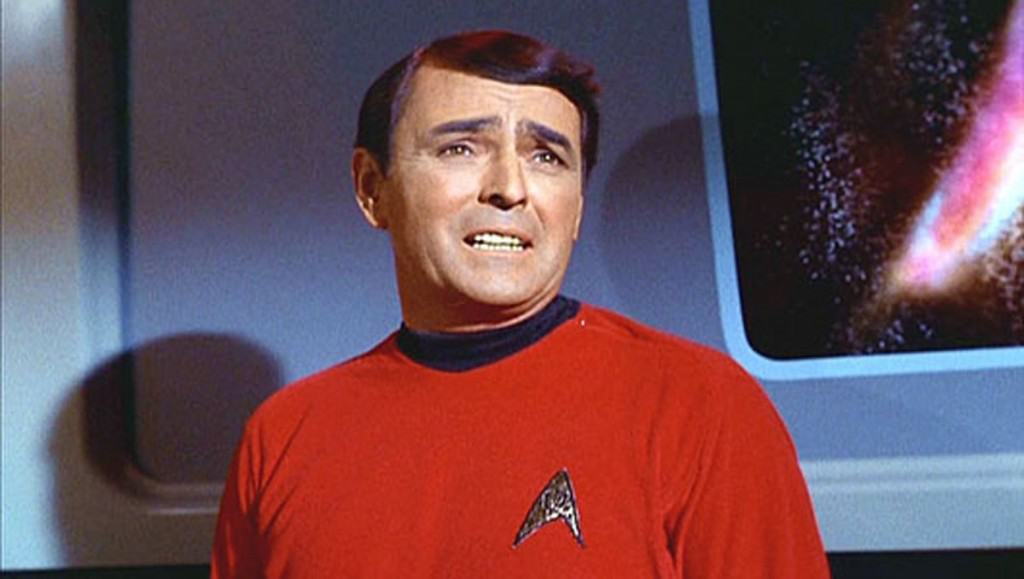without_mask: (412, 101, 567, 297)
